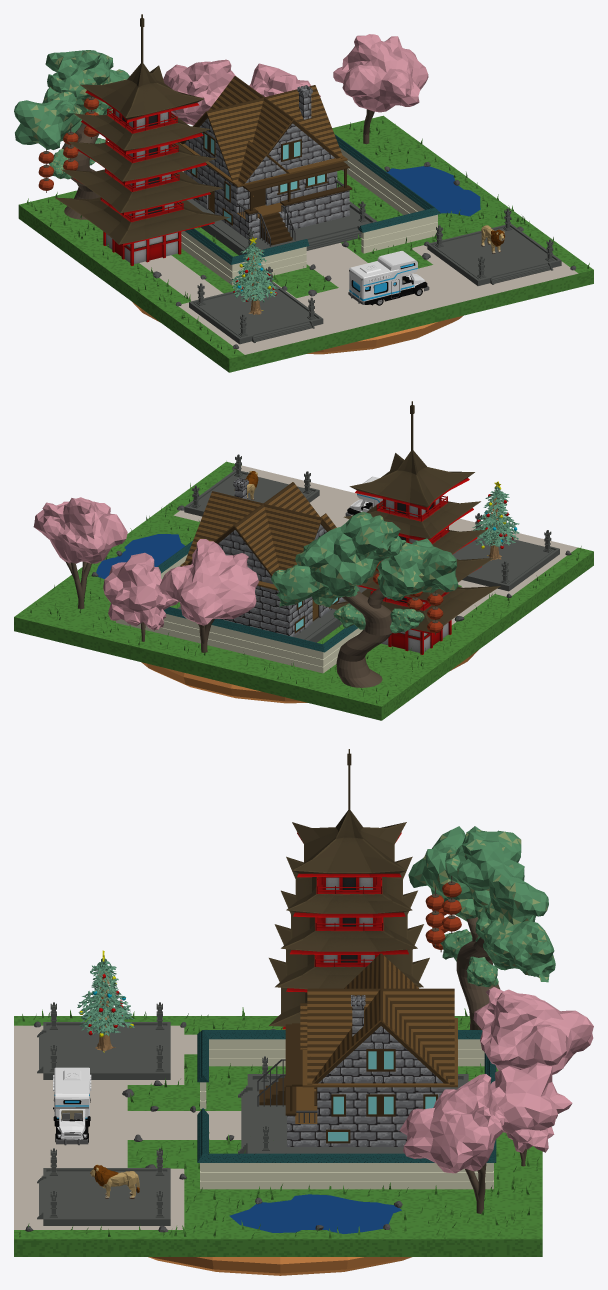
3 views of the same model, one above another, from view 1: azimuth 30°, elevation 25°; view 2: azimuth 150°, elevation 25°; view 3: azimuth 270°, elevation 25° (orthographic). The views are drawn at different scales.
Visible parts, largest first — view 1: Cube.005, Cube.586, VEHICLES_CAMPER, OBJRANDOM_CHRISTMAS_TREE, UNDERGROUND_PIZZA; view 2: Cube.005, Cube.586, OBJRANDOM_CHRISTMAS_TREE, UNDERGROUND_PIZZA, VEHICLES_CAMPER; view 3: Cube.005, Cube.586, UNDERGROUND_PIZZA, VEHICLES_CAMPER, OBJRANDOM_CHRISTMAS_TREE, ANIMAL_LEON.
Boxes of the visible parts, box(x1,y1,x2,y2) form: Cube.005: box(14, 14, 593, 372); Cube.586: box(177, 76, 352, 246); VEHICLES_CAMPER: box(348, 251, 429, 305); OBJRANDOM_CHRISTMAS_TREE: box(229, 237, 278, 314); UNDERGROUND_PIZZA: box(132, 302, 463, 354); Cube.005: box(14, 401, 593, 720); Cube.586: box(180, 477, 344, 636); OBJRANDOM_CHRISTMAS_TREE: box(472, 481, 519, 560); UNDERGROUND_PIZZA: box(141, 650, 478, 703); VEHICLES_CAMPER: box(345, 476, 382, 516); Cube.005: box(14, 749, 593, 1256); Cube.586: box(257, 953, 457, 1146); UNDERGROUND_PIZZA: box(148, 1257, 411, 1275); VEHICLES_CAMPER: box(53, 1067, 91, 1145); OBJRANDOM_CHRISTMAS_TREE: box(77, 950, 134, 1052); ANIMAL_LEON: box(90, 1164, 139, 1198).
Size of the model in its own units: 4528 by 2902 by 4389.
44 materials, 6 textured.
